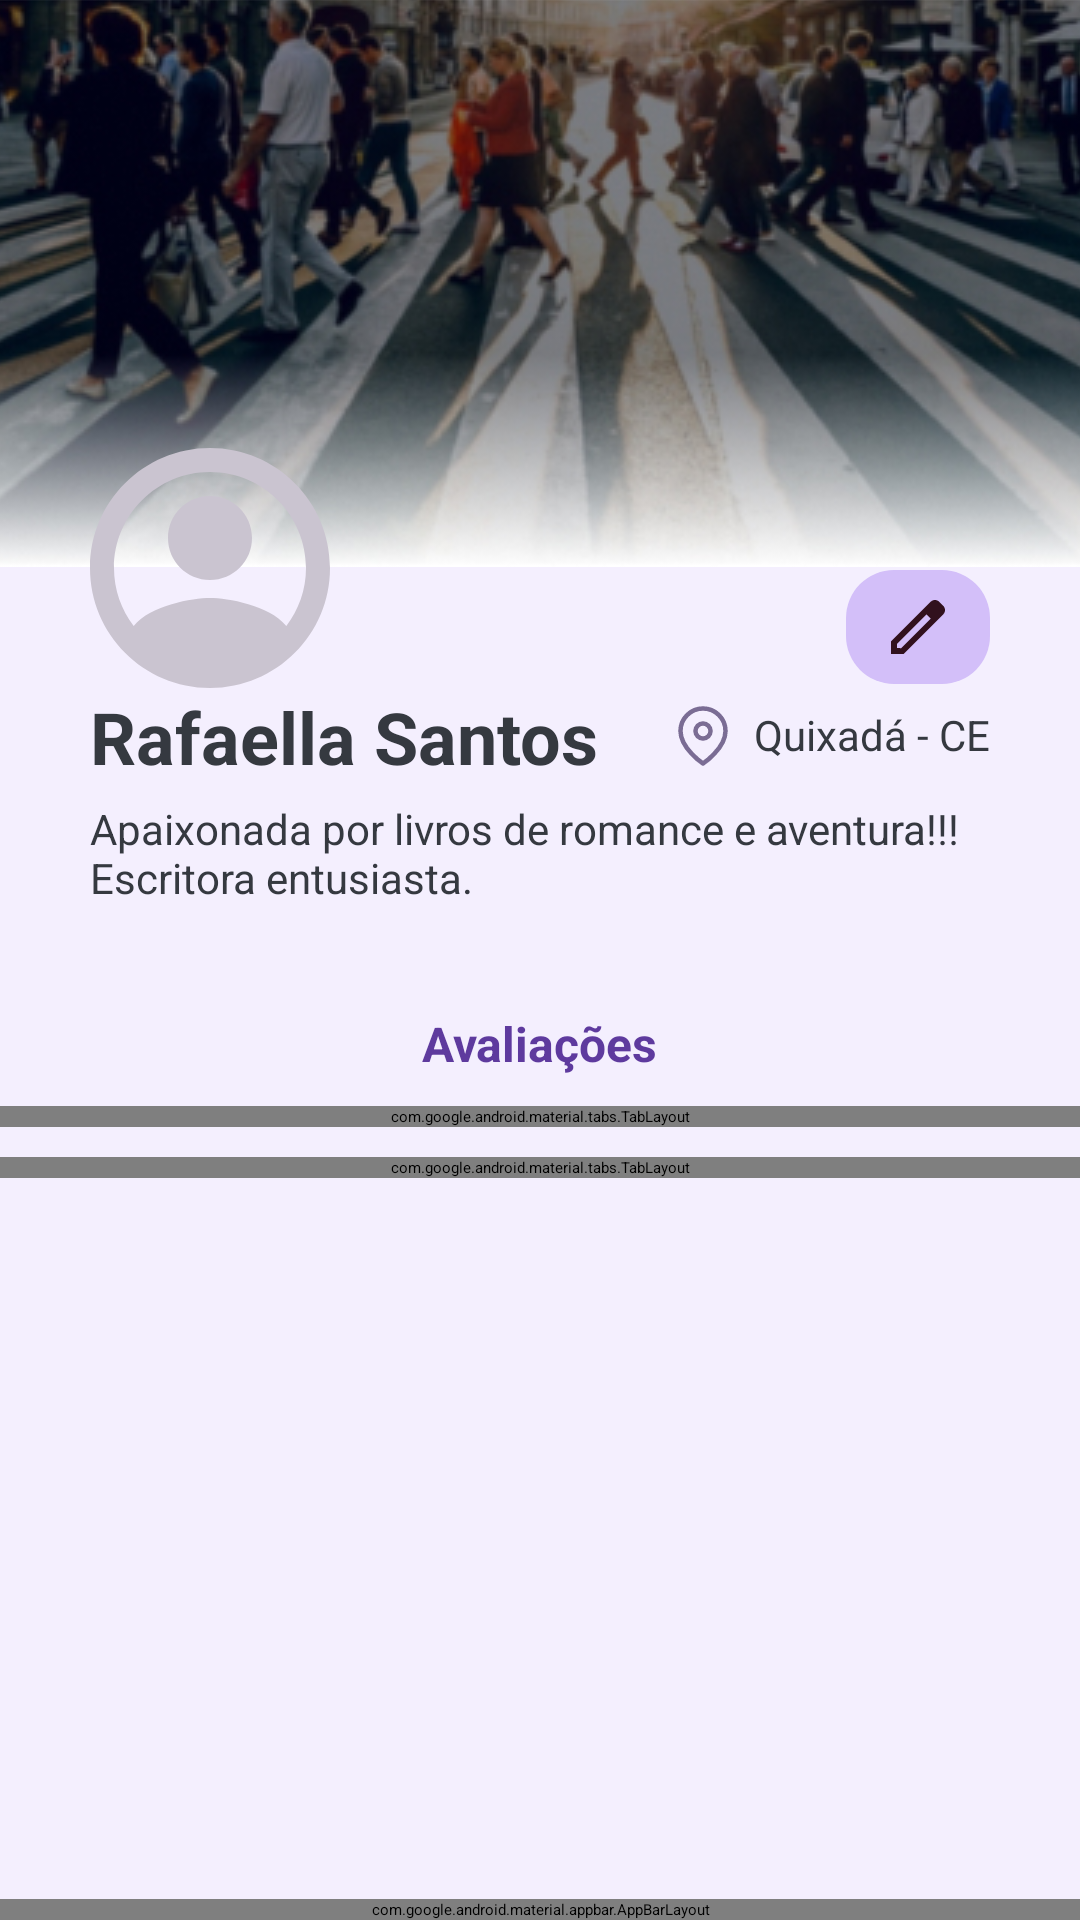

Named icons in this screenshot (1080x1920) and their centers, (x=x, y=y):
foto perfil: (x=210, y=568)
map: (x=703, y=736)
pencil: (x=918, y=627)
